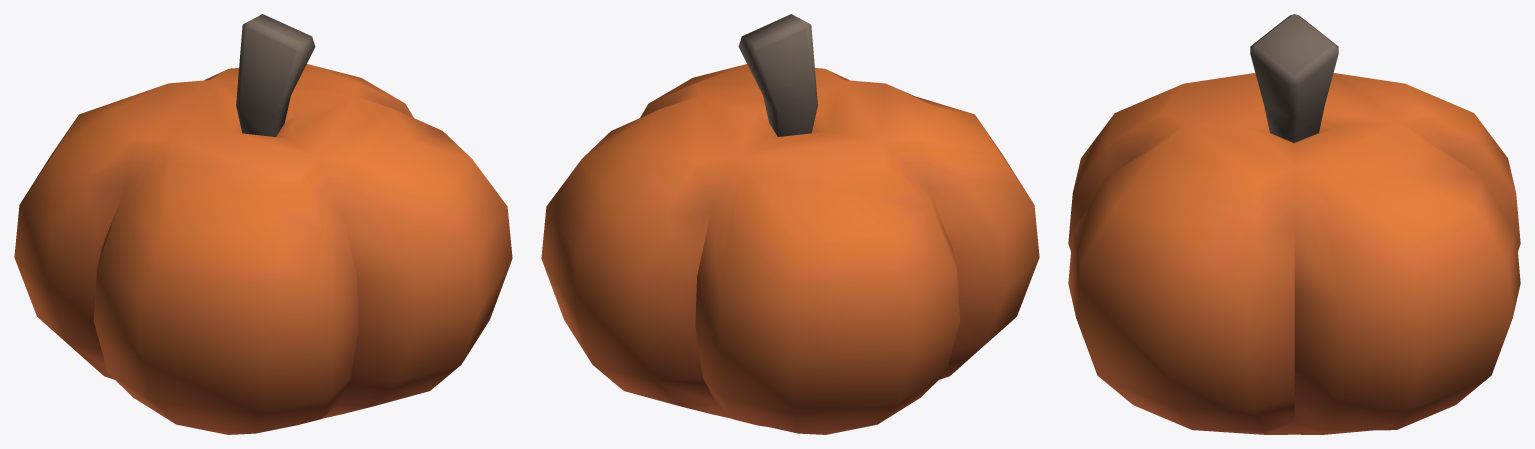
Rendered from kay-abobora-pequena.gltf.
3 views of the same model, side by side, from view 1: azimuth 30°, elevation 25°; view 2: azimuth 150°, elevation 25°; view 3: azimuth 270°, elevation 25° (orthographic).
Visible parts, largest first — view 1: pumpkin_orange_small; view 2: pumpkin_orange_small; view 3: pumpkin_orange_small.
Boxes of the visible parts, <box> form: pumpkin_orange_small: <box>14,14,512,434</box>; pumpkin_orange_small: <box>541,14,1039,434</box>; pumpkin_orange_small: <box>1068,14,1520,434</box>.
Size of the model in its own units: 0.3 by 0.275 by 0.3.
Materials: 1 (1 with a texture image).
